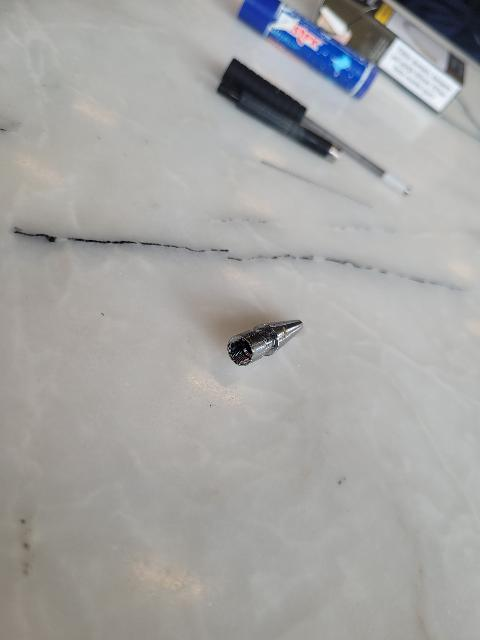Metal: (222, 313, 313, 369)
Plastik: (245, 0, 381, 94)
